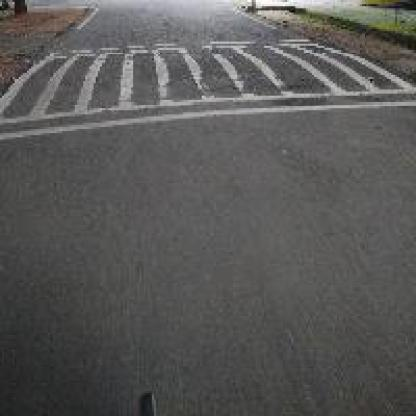Speed Bump: (0, 38, 408, 136)
